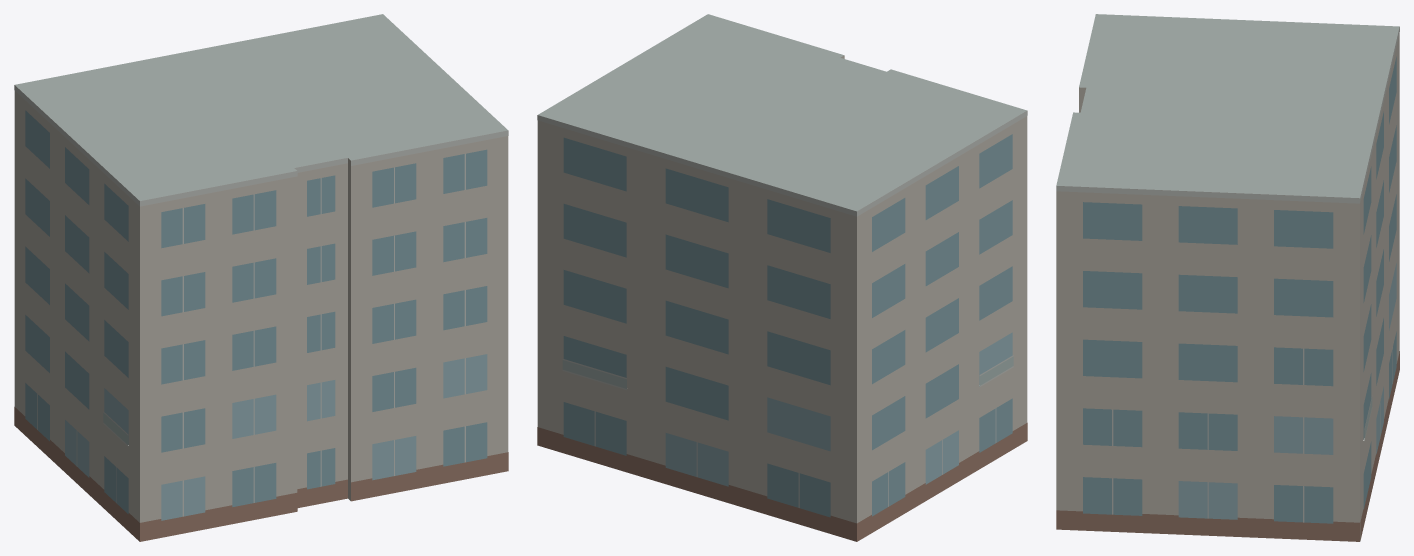
The model's file is survey-upis-32641912.glb.
The picture shows the model from 3 angles, left to right: view 1: azimuth 30°, elevation 25°; view 2: azimuth 150°, elevation 25°; view 3: azimuth 270°, elevation 25°; orthographic projection. The views are drawn at different scales.
Visible parts, largest first — view 1: survey-upis-32641912.tmp; view 2: survey-upis-32641912.tmp; view 3: survey-upis-32641912.tmp.
Boxes of the visible parts, x1,y1,x2,y2 form: survey-upis-32641912.tmp: (14,14,508,541); survey-upis-32641912.tmp: (537,14,1027,541); survey-upis-32641912.tmp: (1056,14,1399,541).
Bounding box in the file's own units: 17.53 × 15.25 × 13.82.
